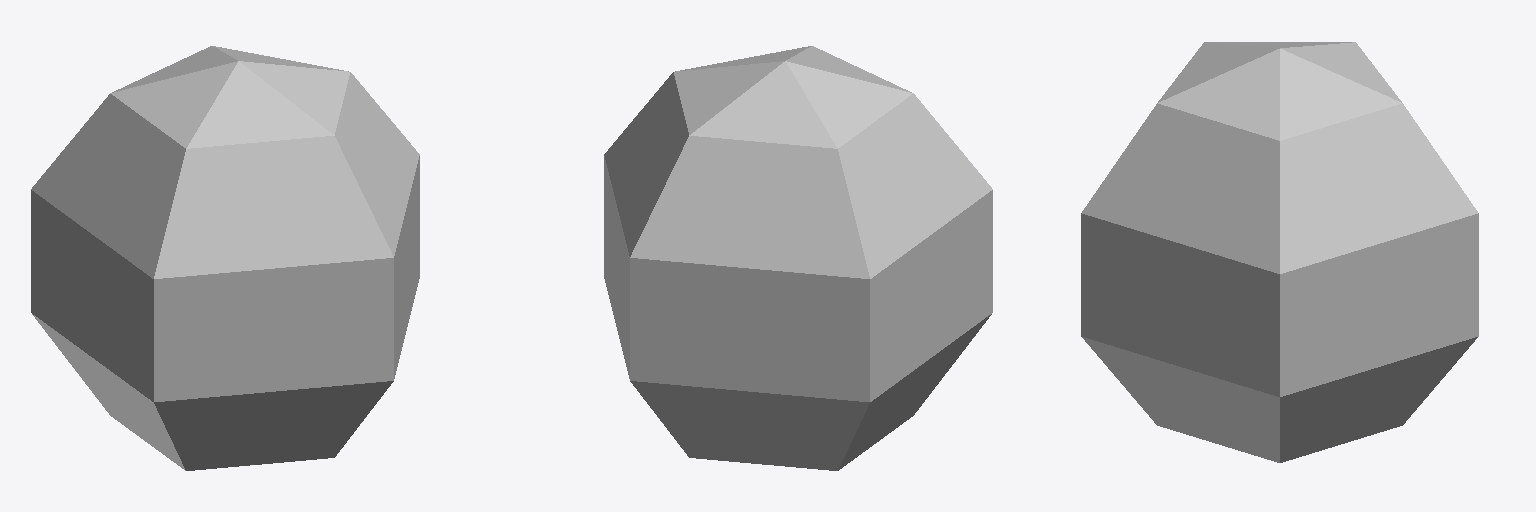
The model's file is doorKnob_lowPoly.obj.
3 renders of one model, left to right at view 1: azimuth 30°, elevation 25°; view 2: azimuth 150°, elevation 25°; view 3: azimuth 270°, elevation 25°, orthographic.
Parts seen in each view (by area): view 1: pSphere2; view 2: pSphere2; view 3: pSphere2.
Part boxes in pixels (bbox=[...]): pSphere2: bbox=[31, 46, 419, 470]; pSphere2: bbox=[604, 46, 992, 470]; pSphere2: bbox=[1081, 42, 1478, 462].
Size of the model in its own units: 0.1949 by 0.2266 by 0.2049.